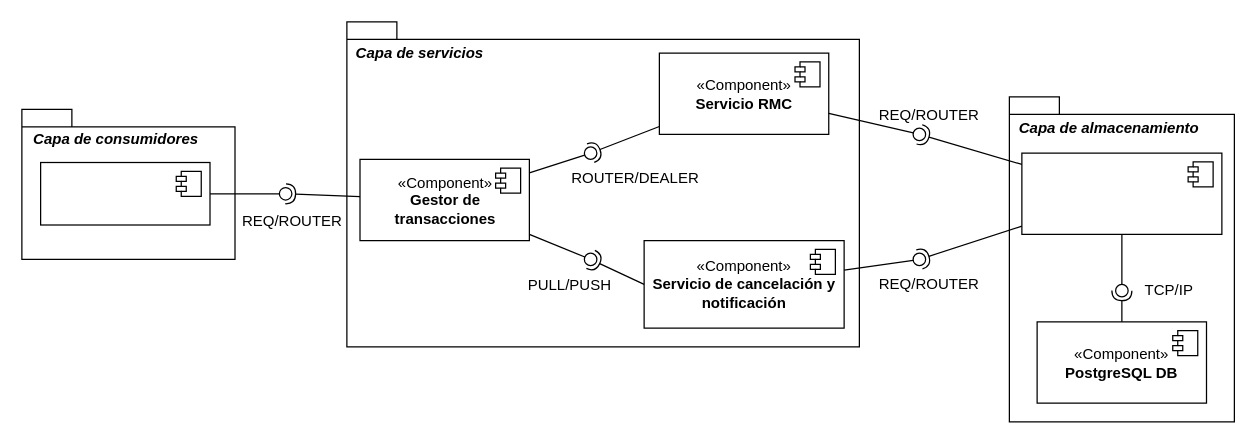
Some shapes in this 1256 by 444 pixel diagram are drawn without their labels. Each missing label, with the centre of its shape:
«Component» Clientes: the point at 124,193
«Component» Servicio de Persistencia: the point at 1121,193
